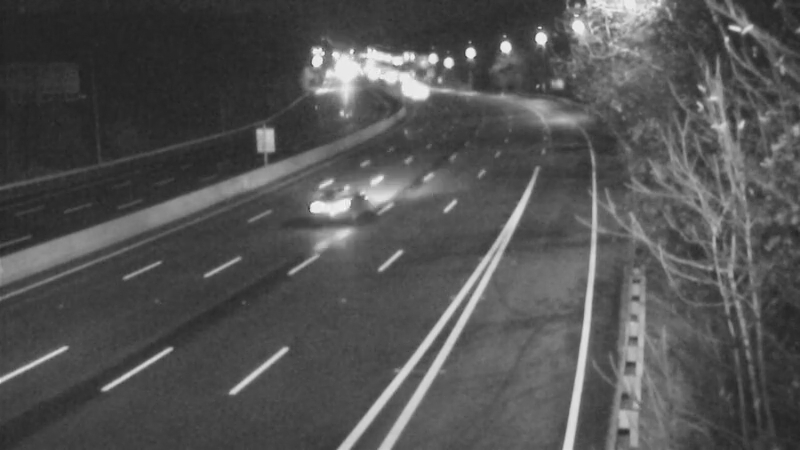vehicle: (291, 158, 371, 238), (390, 65, 440, 115)
